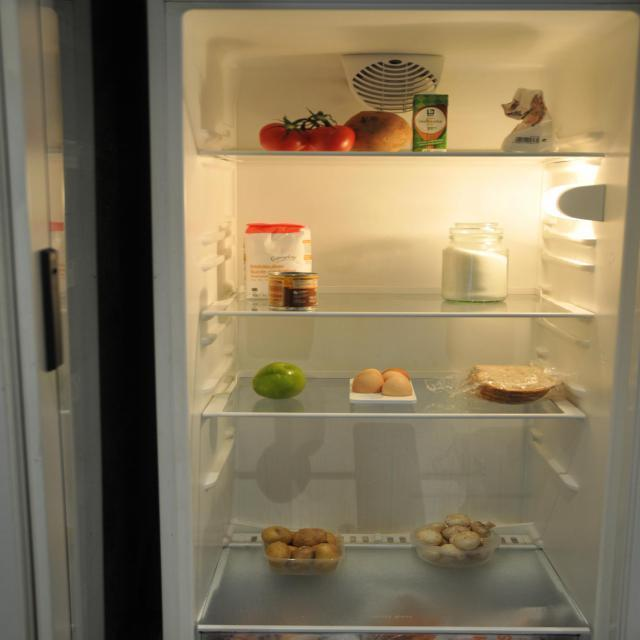apple: (252, 360, 310, 400)
bread: (468, 363, 564, 403)
corn: (268, 274, 324, 308)
eggs: (351, 363, 418, 401)
flour: (498, 88, 562, 154)
heavy_cream: (412, 89, 458, 153)
mushrooms: (414, 512, 499, 570)
potato: (259, 524, 341, 571)
sugar: (438, 218, 511, 304), (248, 226, 313, 298)
sweet_potato: (342, 107, 415, 157)
tomato: (260, 116, 356, 150)
